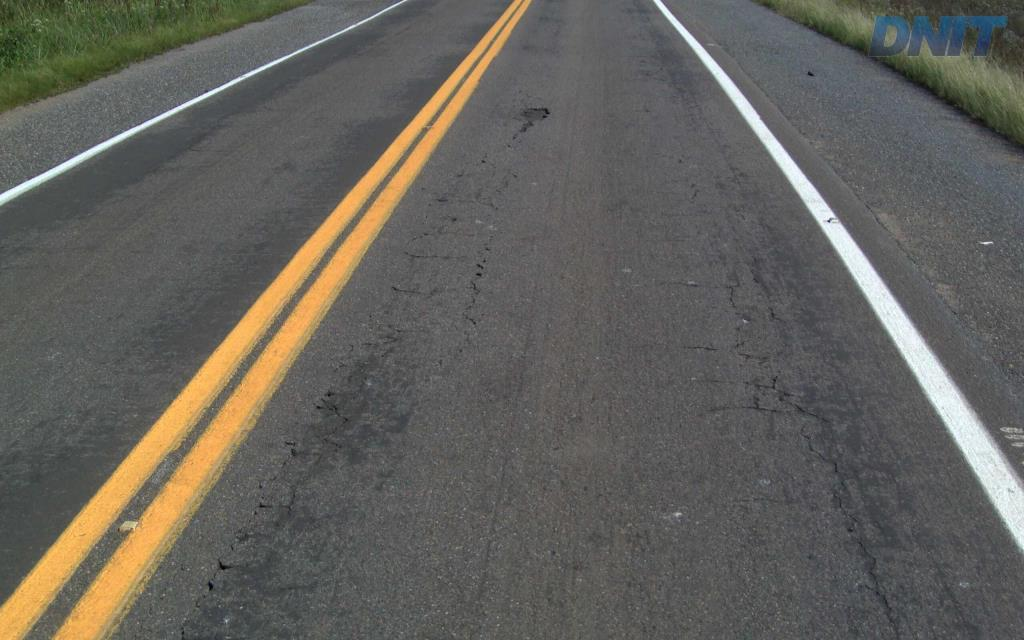crack: (851, 535, 901, 639)
